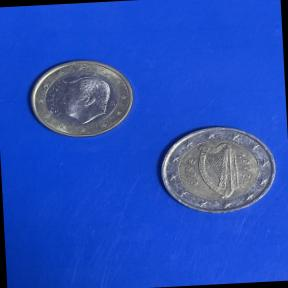coin: (152, 119, 283, 220), (19, 52, 142, 147)
